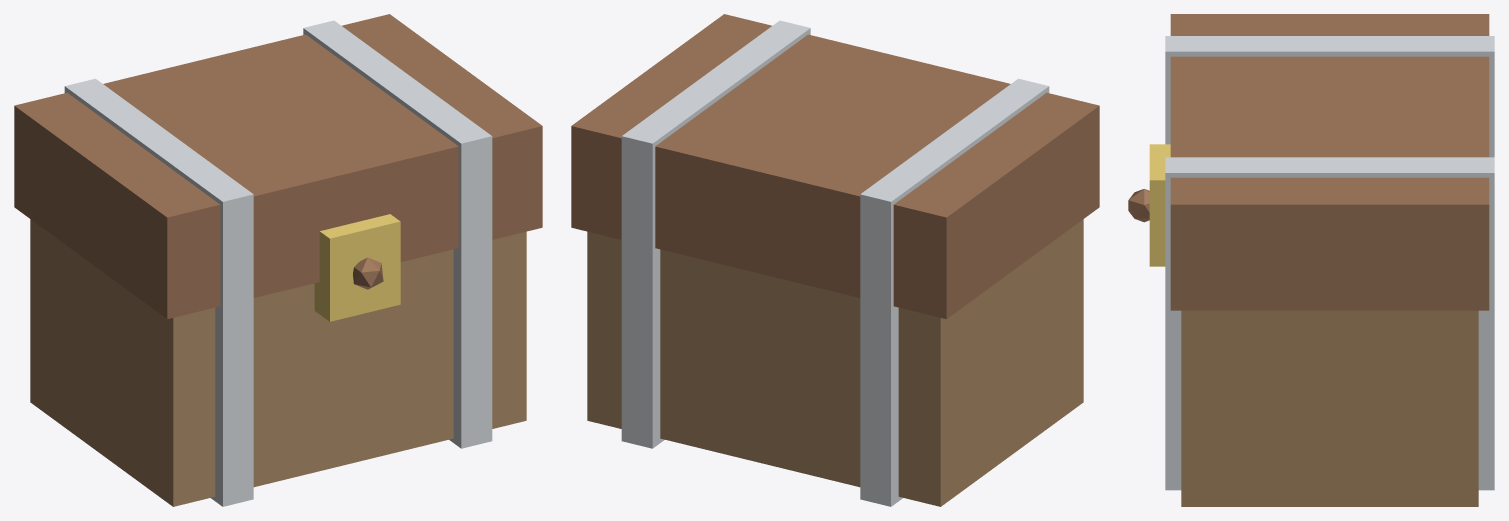
Rendered from chest.glb.
The picture shows the model from 3 angles, left to right: view 1: azimuth 30°, elevation 25°; view 2: azimuth 150°, elevation 25°; view 3: azimuth 270°, elevation 25°; orthographic projection. The views are drawn at different scales.
Parts seen in each view (by area): view 1: lid, body, band.001, band, lock, keyhole; view 2: lid, body, band.001, band; view 3: lid, body, band.001, band, lock, keyhole.
Boxes of the visible parts, <box> form: lid: <box>14,14,542,319</box>; body: <box>30,219,526,506</box>; band.001: <box>303,20,492,448</box>; band: <box>64,78,253,506</box>; lock: <box>314,214,400,321</box>; keyhole: <box>353,257,383,289</box>; lid: <box>571,14,1099,319</box>; body: <box>587,219,1083,506</box>; band.001: <box>621,20,810,448</box>; band: <box>860,78,1049,506</box>; lid: <box>1170,14,1489,310</box>; body: <box>1181,310,1478,506</box>; band.001: <box>1165,157,1494,490</box>; band: <box>1165,36,1494,157</box>; lock: <box>1149,144,1170,266</box>; keyhole: <box>1128,189,1149,222</box>.
Size of the model in its own units: 0.85 by 0.66 by 0.6898.
